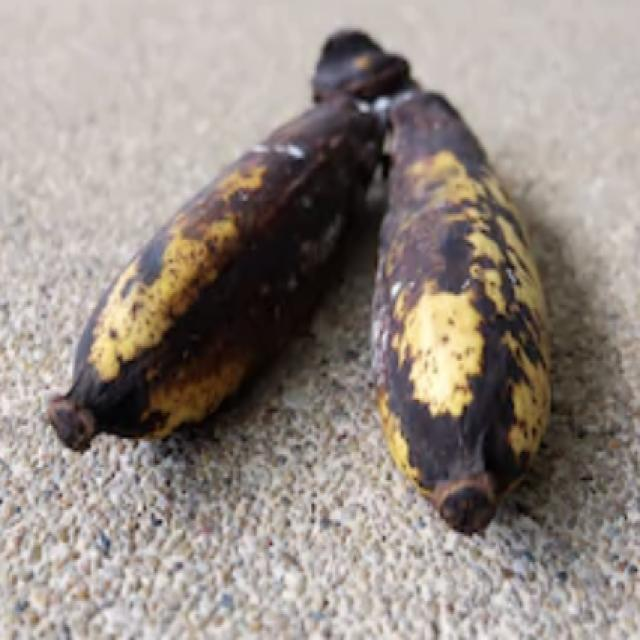Rotten: (16, 0, 365, 495), (364, 23, 565, 550)
